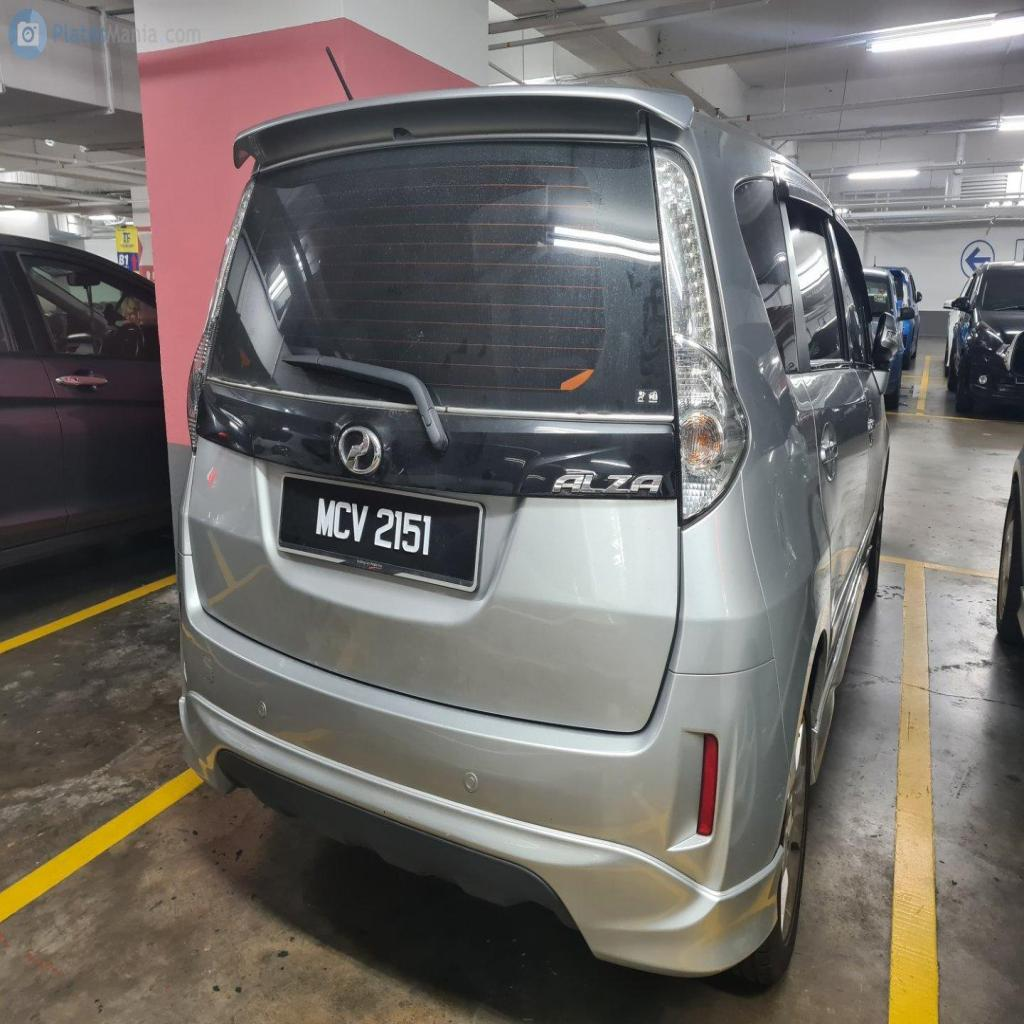car: (178, 86, 897, 983)
car plate: (279, 476, 482, 589)
